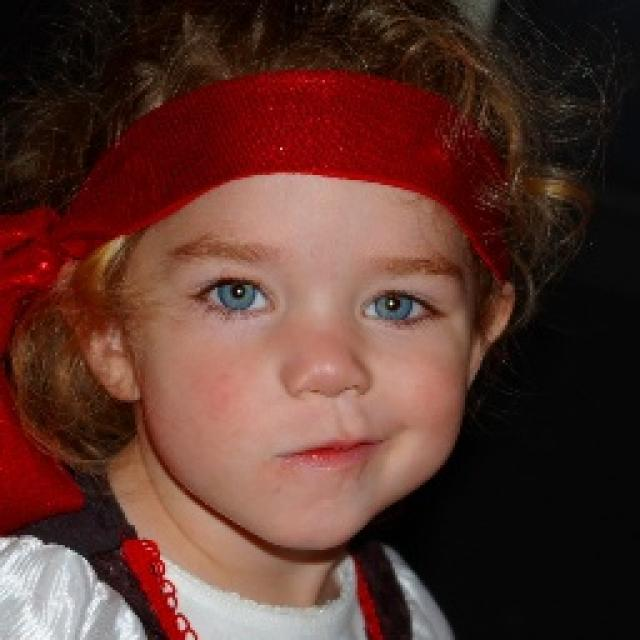earlobe: (63, 287, 141, 404), (468, 280, 516, 388)
